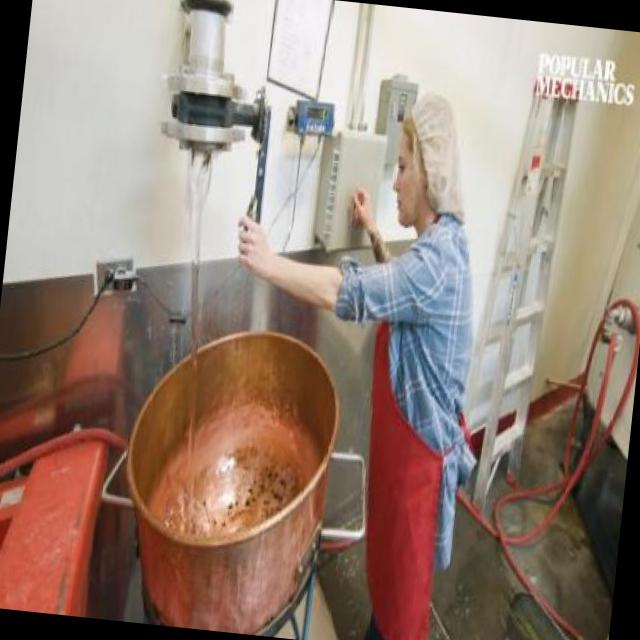hairnet: (399, 94, 461, 152)
